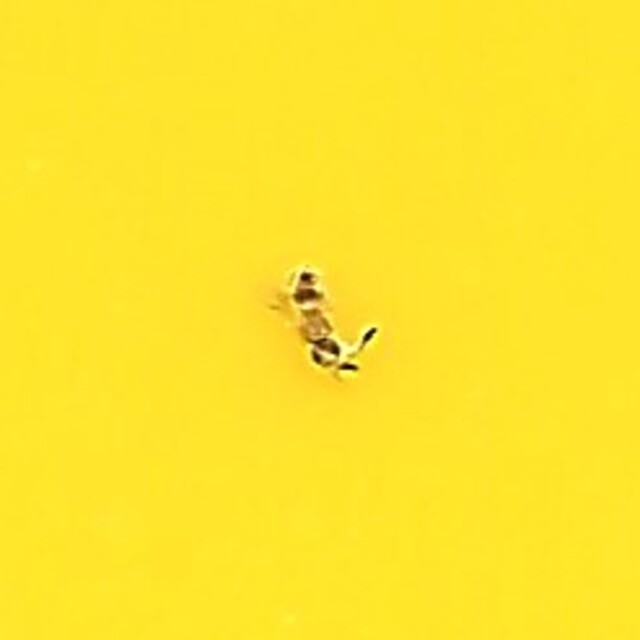Hymenoptera: (259, 262, 381, 378)
